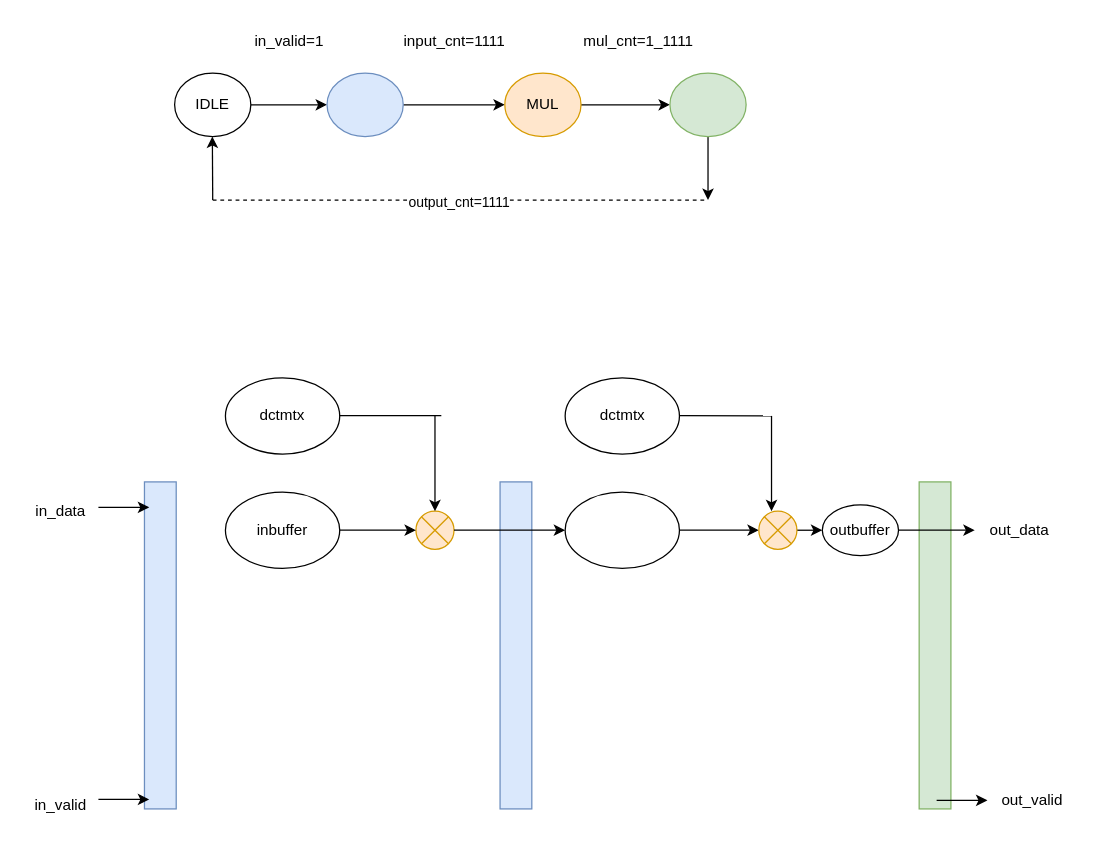
The diagram is 1097 pixels wide and 846 high, and some of its shapes have lost their labels. The shapes that lost their labels are listed below. From the top down, each one's centre as x and y in pixels, then its label:
point 364,104: INPUT
point 707,104: OUTPUT
point 621,529: tmpbuffer
